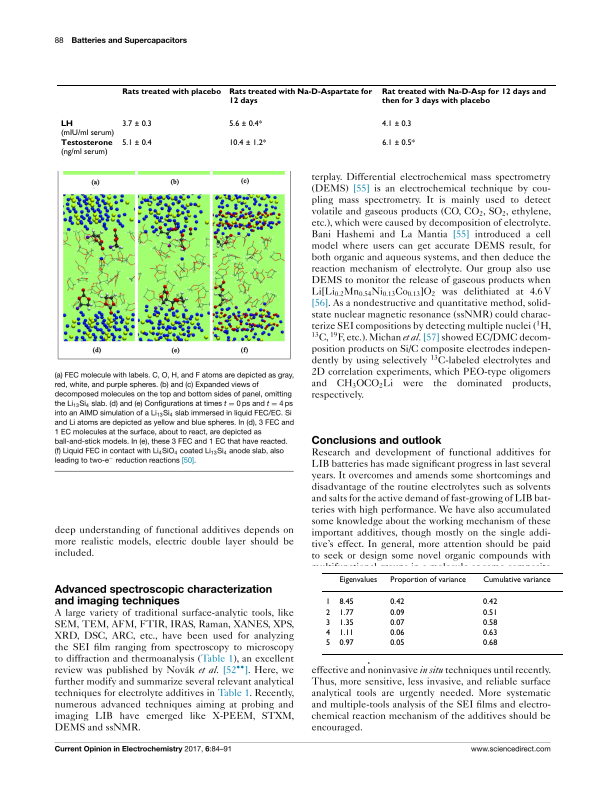borderless: (55, 83, 557, 165), (321, 571, 563, 655)
cell: (381, 88, 546, 106), (228, 88, 373, 106), (59, 119, 115, 138), (59, 139, 113, 157), (121, 88, 222, 97), (389, 575, 466, 585), (482, 575, 551, 585), (338, 575, 378, 585), (228, 138, 267, 148), (228, 119, 263, 129), (381, 138, 415, 148), (121, 119, 152, 129), (381, 119, 412, 129), (121, 138, 152, 148), (338, 608, 354, 618), (389, 608, 405, 618), (482, 608, 498, 618), (338, 618, 354, 628), (389, 618, 405, 628), (482, 618, 498, 628), (338, 628, 354, 638), (389, 628, 405, 638), (482, 628, 498, 638), (338, 598, 354, 607), (389, 598, 405, 607), (482, 598, 498, 607), (338, 639, 354, 648), (389, 639, 405, 648), (482, 639, 498, 648), (324, 608, 331, 618), (324, 618, 331, 628), (324, 628, 331, 638), (324, 598, 331, 607), (324, 639, 331, 648)
